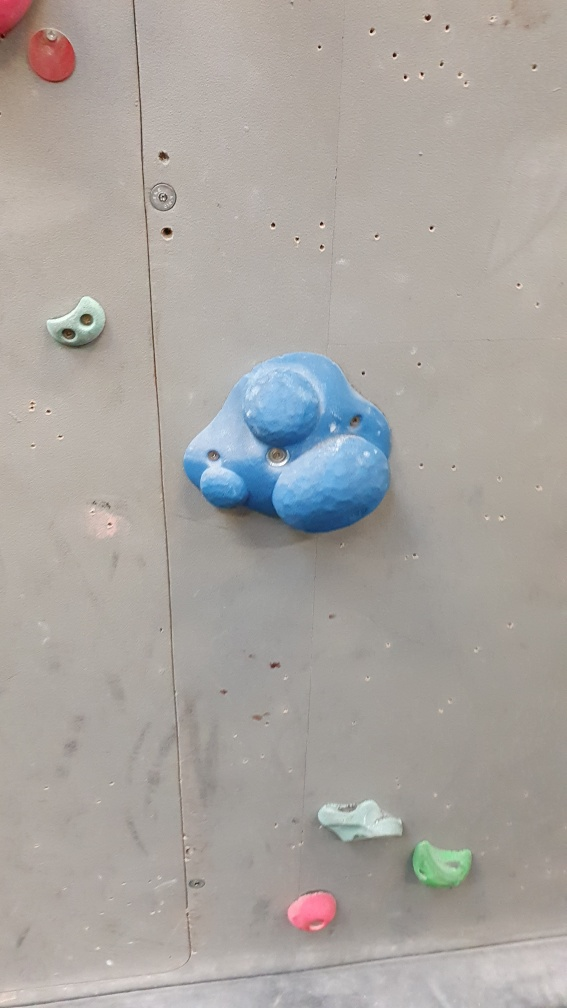Sloper: (179, 349, 392, 537)
